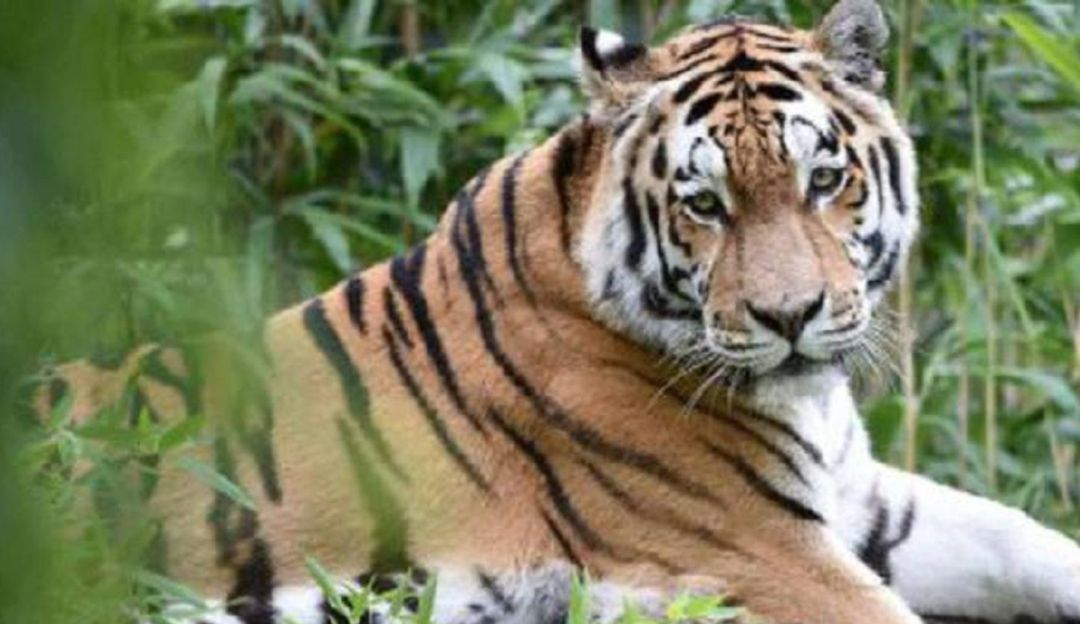Tigrew: (271, 21, 1061, 613)
